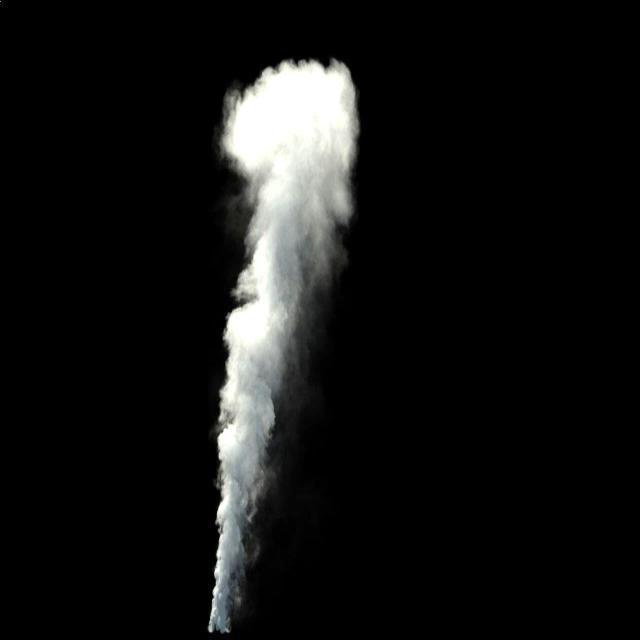Smoke: (202, 53, 367, 612)
